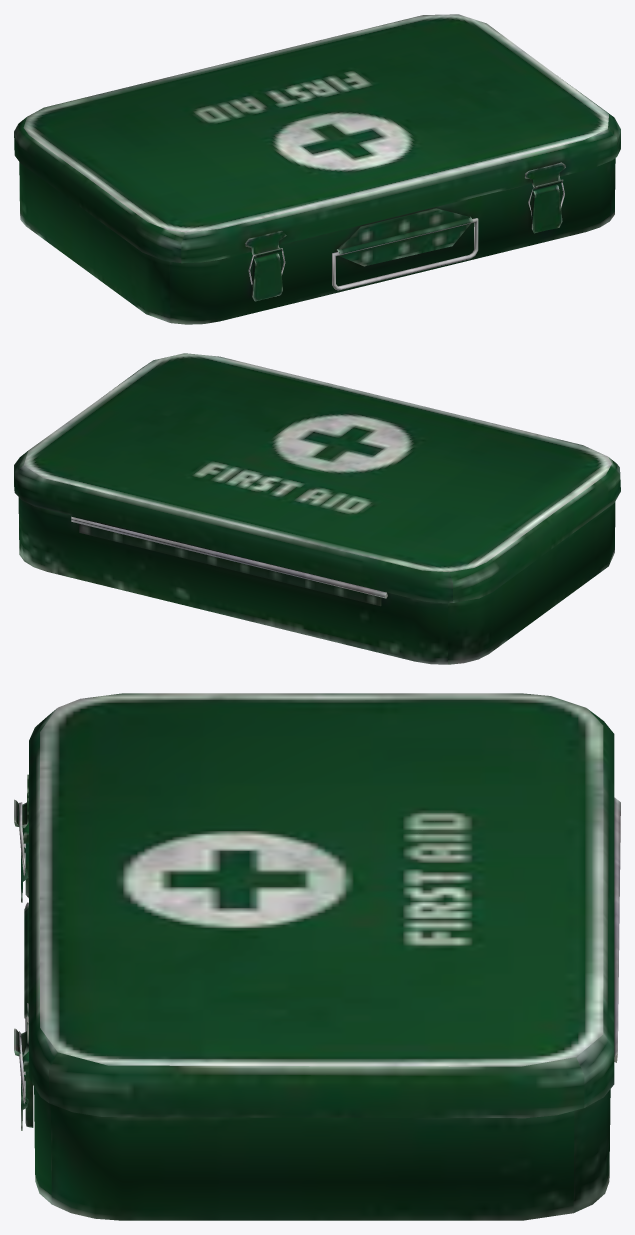
File: medical.glb
The picture shows the model from 3 angles, top to bottom: view 1: azimuth 30°, elevation 25°; view 2: azimuth 150°, elevation 25°; view 3: azimuth 270°, elevation 25°; orthographic projection. The views are drawn at different scales.
Visible parts, largest first — view 1: medical_box_lid, medical_box, medical_box_latch, medical_box_handle; view 2: medical_box_lid, medical_box; view 3: medical_box_lid, medical_box.
Part boxes in pixels (bbox=[...]): medical_box_lid: bbox=[14, 14, 620, 263]; medical_box: bbox=[19, 158, 615, 324]; medical_box_latch: bbox=[251, 184, 562, 301]; medical_box_handle: bbox=[332, 218, 478, 290]; medical_box_lid: bbox=[14, 353, 620, 603]; medical_box: bbox=[18, 497, 615, 664]; medical_box_lid: bbox=[14, 693, 614, 1118]; medical_box: bbox=[24, 797, 620, 1220].
Size of the model in its own units: 0.5255 by 0.0967 by 0.3501.
1 material, 1 textured.
